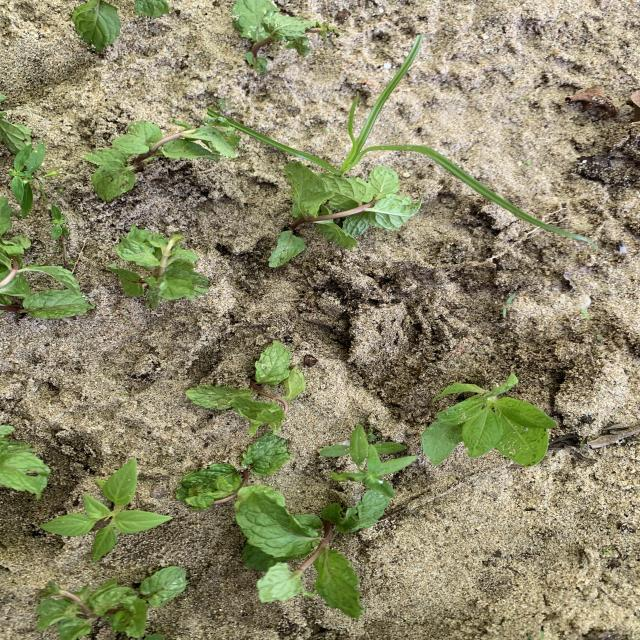crop: (240, 489, 390, 617), (270, 162, 419, 267), (421, 373, 555, 467), (1, 197, 94, 318), (187, 342, 305, 435), (37, 567, 187, 639), (84, 121, 217, 199), (175, 433, 290, 508), (108, 227, 209, 307), (233, 1, 315, 71), (1, 425, 50, 497), (73, 1, 121, 49), (0, 112, 31, 155)
weed: (228, 34, 594, 247), (44, 460, 172, 561), (320, 425, 405, 498), (9, 143, 49, 217), (51, 205, 68, 238), (313, 21, 339, 39), (501, 294, 515, 317), (218, 98, 229, 109), (581, 309, 590, 318)
